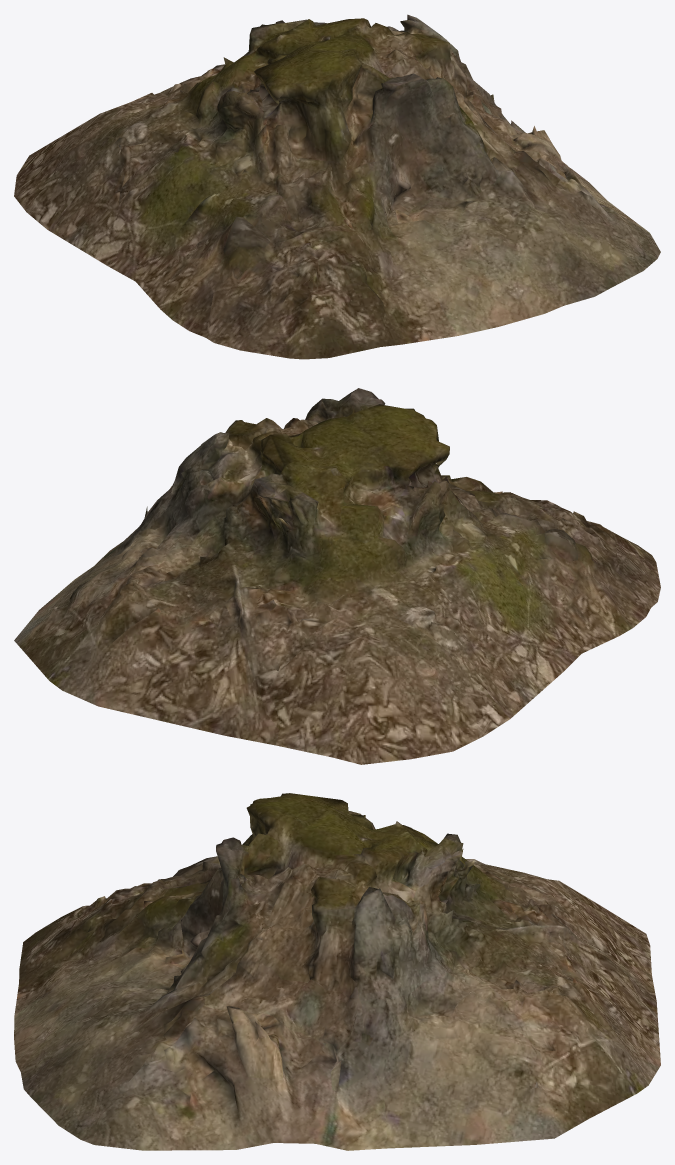
File: tree_stump_01.glb
3 renders of one model, top to bottom at view 1: azimuth 30°, elevation 25°; view 2: azimuth 150°, elevation 25°; view 3: azimuth 270°, elevation 25°, orthographic. The views are drawn at different scales.
Visible parts, largest first — view 1: tree_stump_01; view 2: tree_stump_01; view 3: tree_stump_01.
Part boxes in pixels (x1,y1,x2,y2): tree_stump_01: (14,14,660,359); tree_stump_01: (14,388,660,764); tree_stump_01: (14,793,660,1150).
Bounding box in the file's own units: 1.43 × 0.5686 × 1.59.
Materials: 1 (1 with a texture image).
